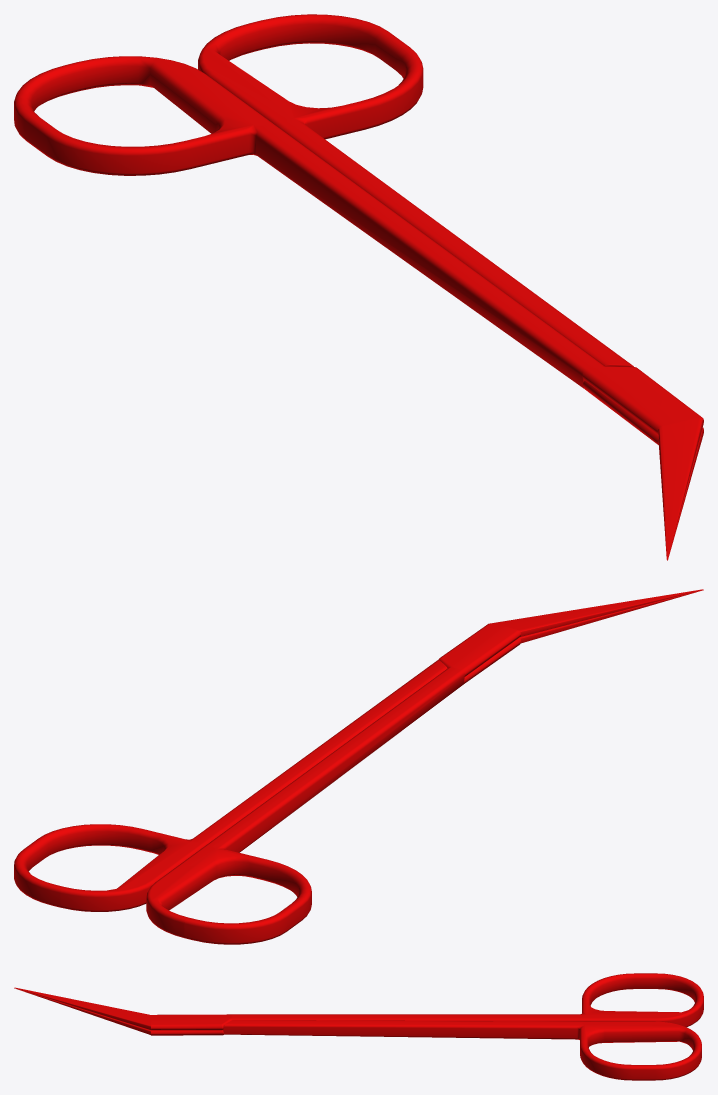
File: Medical_instrument_1.fbx
3 renders of one model, top to bottom at view 1: azimuth 30°, elevation 25°; view 2: azimuth 150°, elevation 25°; view 3: azimuth 270°, elevation 25°, orthographic. The views are drawn at different scales.
Parts seen in each view (by area): view 1: L31:polySurface1393; view 2: L31:polySurface1393; view 3: L31:polySurface1393.
Part boxes in pixels (left/top/right/bottom): L31:polySurface1393: left=14, top=14, right=703, bottom=560; L31:polySurface1393: left=14, top=589, right=703, bottom=944; L31:polySurface1393: left=14, top=973, right=703, bottom=1080.
Size of the model in its own units: 5.83 by 0.429 by 18.01.
